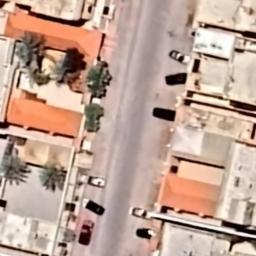pickup: (79, 220, 94, 245)
sedan: (130, 204, 154, 220), (152, 108, 176, 121), (165, 72, 187, 85), (169, 50, 189, 64), (88, 176, 105, 186)
truck: (82, 198, 104, 216)
